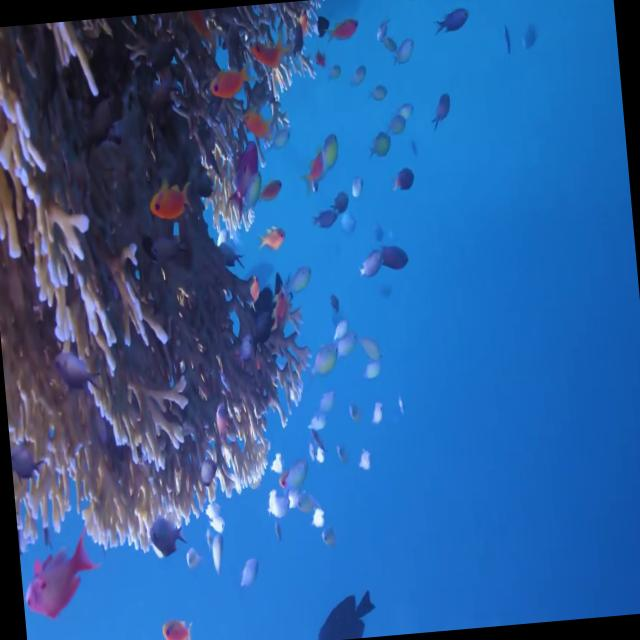fish: (18, 533, 95, 627), (306, 578, 382, 640), (201, 59, 258, 111), (143, 502, 190, 565), (239, 27, 291, 82), (47, 341, 99, 396), (9, 436, 51, 492), (229, 549, 266, 610), (146, 177, 194, 224), (421, 74, 457, 135), (238, 106, 286, 150), (299, 334, 341, 384), (298, 140, 332, 200), (320, 120, 344, 194), (262, 478, 294, 530), (376, 240, 412, 284), (428, 10, 477, 42), (152, 610, 204, 640), (277, 260, 315, 301), (388, 25, 417, 77), (200, 528, 228, 580), (308, 198, 337, 248), (328, 10, 363, 49), (362, 124, 392, 168), (323, 334, 362, 367), (348, 442, 377, 486), (253, 218, 286, 256), (312, 381, 341, 424), (357, 246, 386, 288), (255, 172, 288, 208), (364, 73, 394, 109), (364, 391, 388, 436), (344, 58, 370, 98), (282, 456, 308, 494), (303, 409, 332, 443), (245, 268, 267, 312), (304, 15, 333, 46), (389, 168, 417, 200), (302, 493, 326, 530), (495, 22, 519, 58), (385, 110, 409, 142), (360, 360, 384, 386), (322, 61, 343, 89)
